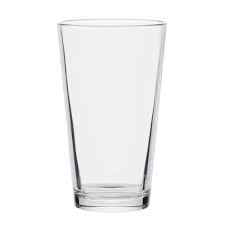glass: (55, 14, 171, 215)
